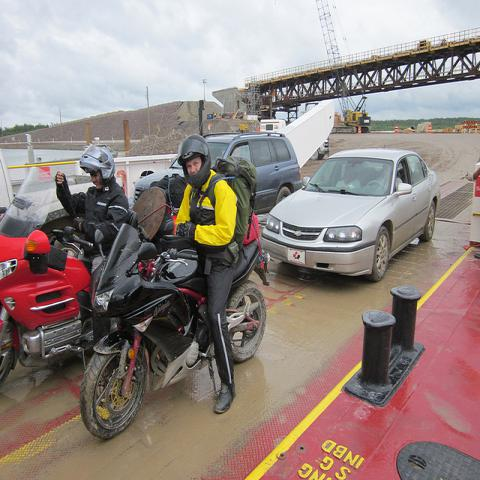car: (263, 147, 442, 283), (133, 130, 304, 217)
motorcycle: (81, 223, 269, 441), (2, 164, 116, 383)
